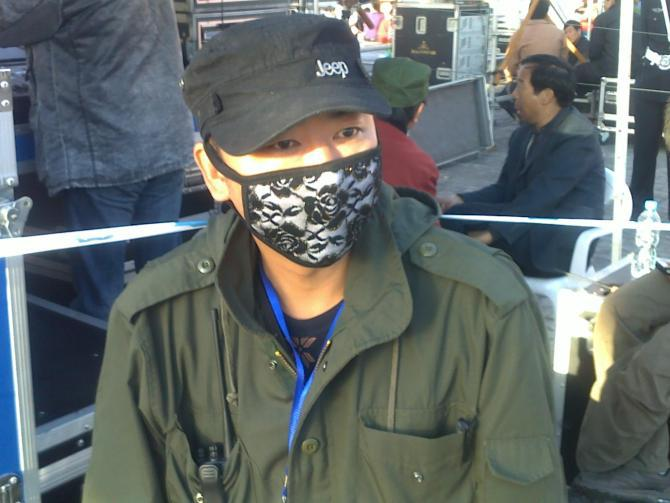NONE: (514, 82, 556, 125)
OK: (230, 106, 387, 263)
